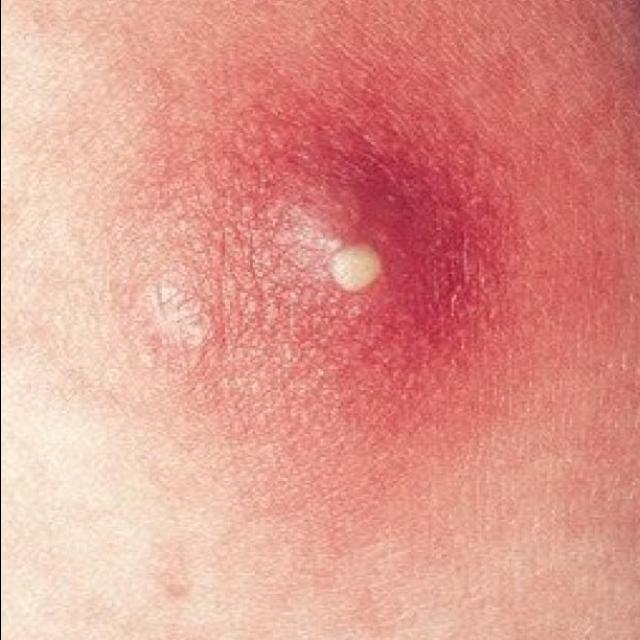pustule: (294, 210, 422, 357)
